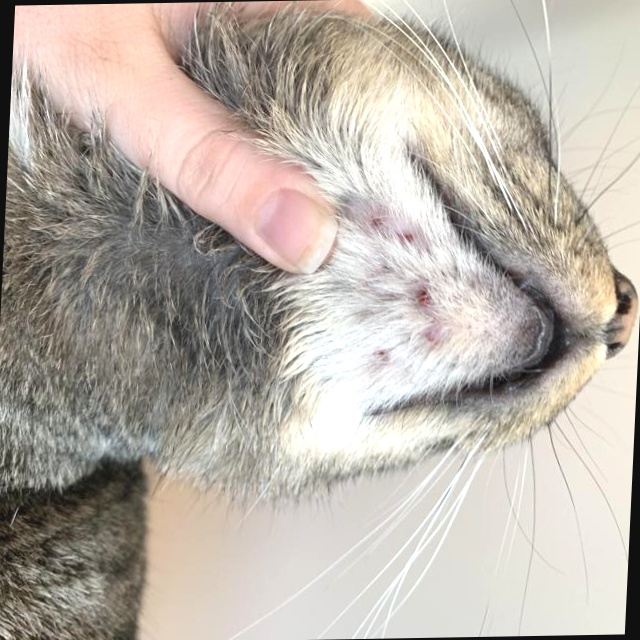acne: (335, 218, 452, 378)
